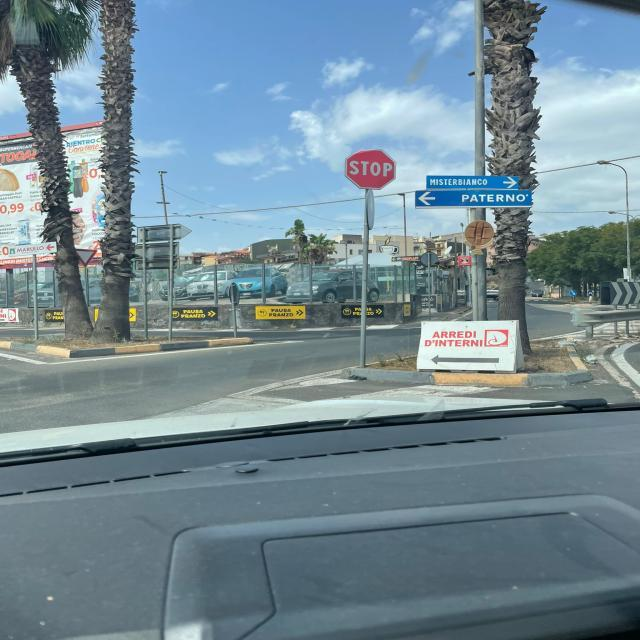prio_stop: (343, 148, 398, 191)
